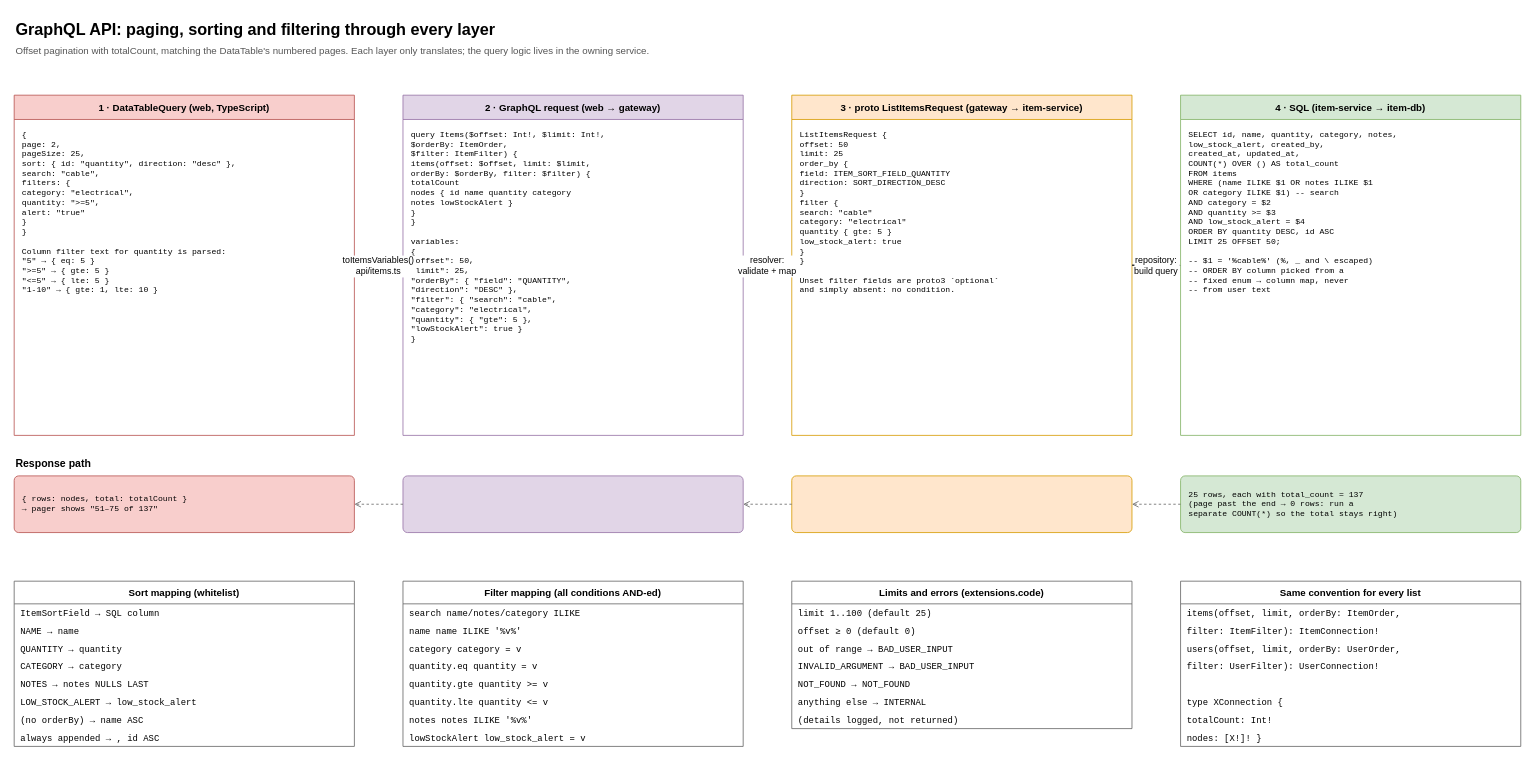
Image size: 1535x761. Some labels were removed from this diagram. The centre of each missing label's shape, as x and y in pixels:
ListItemsResponse { items: [25 × Item], total_count: 137 }: point (961, 504)
{ "data": { "items": { "totalCount": 137, "nodes": [ …25 ] } } }: point (572, 504)
